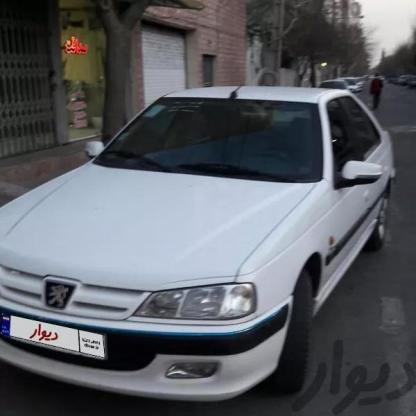Car: (0, 79, 403, 412)
